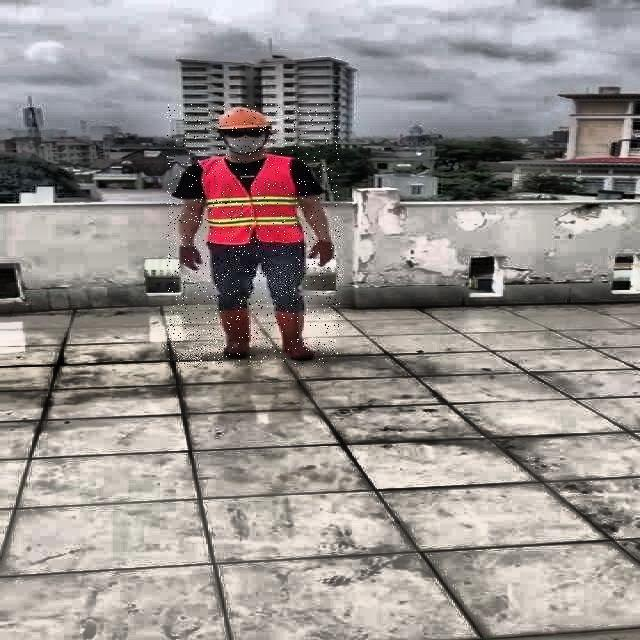safety_helmet: (218, 106, 270, 131)
safety_jacket: (202, 156, 302, 245)
